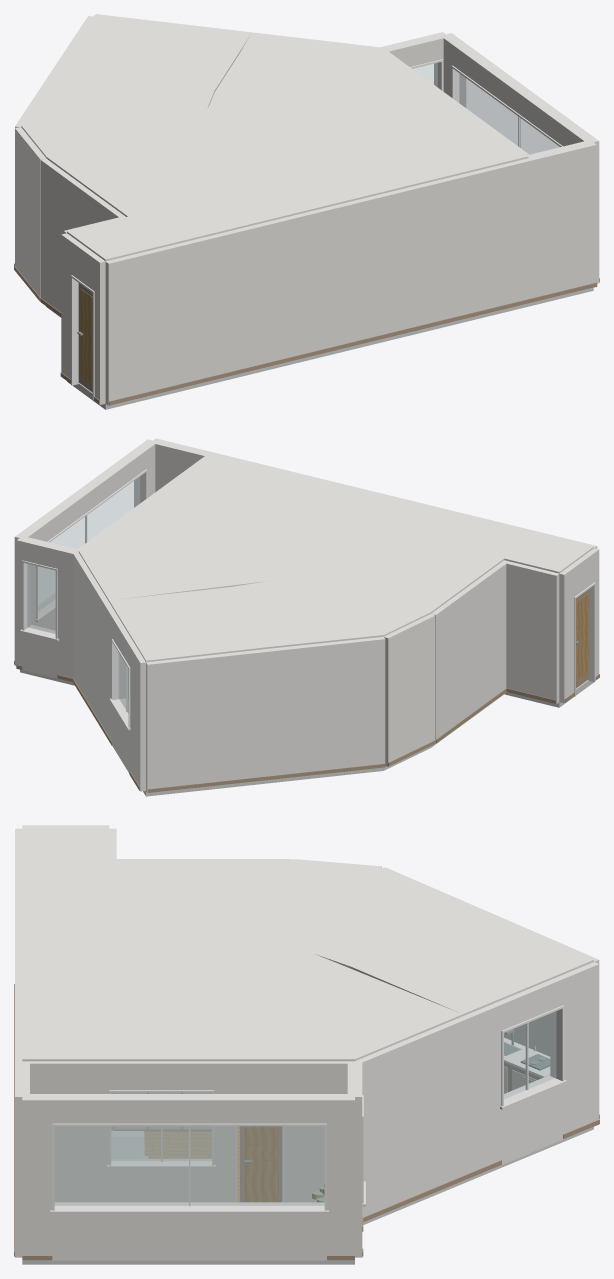
Rendered from option-08.glb.
3 renders of one model, top to bottom at view 1: azimuth 30°, elevation 25°; view 2: azimuth 150°, elevation 25°; view 3: azimuth 270°, elevation 25°, orthographic. The views are drawn at different scales.
Visible parts, largest first — view 1: 一居08_architecture_plaster, 一居08_ceiling_plaster, 一居08_glass_glass, 一居08_trim_wood, 一居08_frames_ceramic, 一居08_slab_slab, 门扇_entry_oak; view 2: 一居08_architecture_plaster, 一居08_ceiling_plaster, 一居08_glass_glass, 一居08_frames_ceramic, 一居08_trim_wood, 一居08_slab_slab, 门扇_entry_oak, 一居08_frames_marble; view 3: 一居08_ceiling_plaster, 一居08_architecture_plaster, 一居08_glass_glass, 一居08_frames_marble, 一居08_frames_ceramic, 门扇_bal-door_oak, 一居08_slab_slab, 一居08_floor_oak, 一居08_trim_wood, 一居08_furniture_linen, 一居08_furniture_fabric, 门扇_bal-door_wood (+1 smaller).
Boxes of the visible parts, x1,y1,x2,y2 form: 一居08_architecture_plaster: (15, 14, 599, 405); 一居08_ceiling_plaster: (21, 15, 528, 261); 一居08_glass_glass: (413, 63, 559, 154); 一居08_trim_wood: (14, 263, 599, 405); 一居08_frames_ceramic: (71, 59, 562, 401); 一居08_slab_slab: (46, 288, 593, 409); 门扇_entry_oak: (80, 289, 92, 384); 一居08_architecture_plaster: (14, 438, 599, 793); 一居08_ceiling_plaster: (78, 453, 593, 662); 一居08_glass_glass: (27, 477, 139, 713); 一居08_frames_ceramic: (22, 469, 595, 727); 一居08_trim_wood: (14, 661, 599, 792); 一居08_slab_slab: (20, 669, 593, 796); 门扇_entry_oak: (576, 593, 588, 680); 一居08_frames_marble: (20, 593, 130, 730); 一居08_ceiling_plaster: (22, 826, 593, 1061); 一居08_architecture_plaster: (15, 825, 599, 1260); 一居08_glass_glass: (55, 1011, 556, 1205); 一居08_frames_marble: (50, 1075, 567, 1213); 一居08_frames_ceramic: (52, 1005, 564, 1210); 门扇_bal-door_oak: (245, 1126, 279, 1202); 一居08_slab_slab: (22, 1127, 593, 1264); 一居08_floor_oak: (111, 1126, 239, 1202); 一居08_trim_wood: (14, 984, 599, 1260); 一居08_furniture_linen: (111, 1066, 536, 1136); 一居08_furniture_fabric: (111, 1137, 147, 1158); 门扇_bal-door_wood: (240, 1126, 282, 1202).
Size of the model in its own units: 10.18 by 2.91 by 9.1.
Materials: 17 (2 with a texture image).
